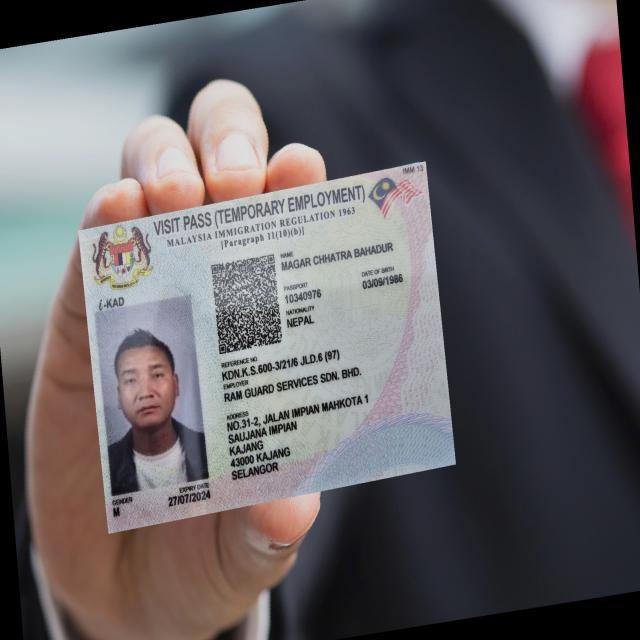ikad-temp: (77, 159, 457, 534)
